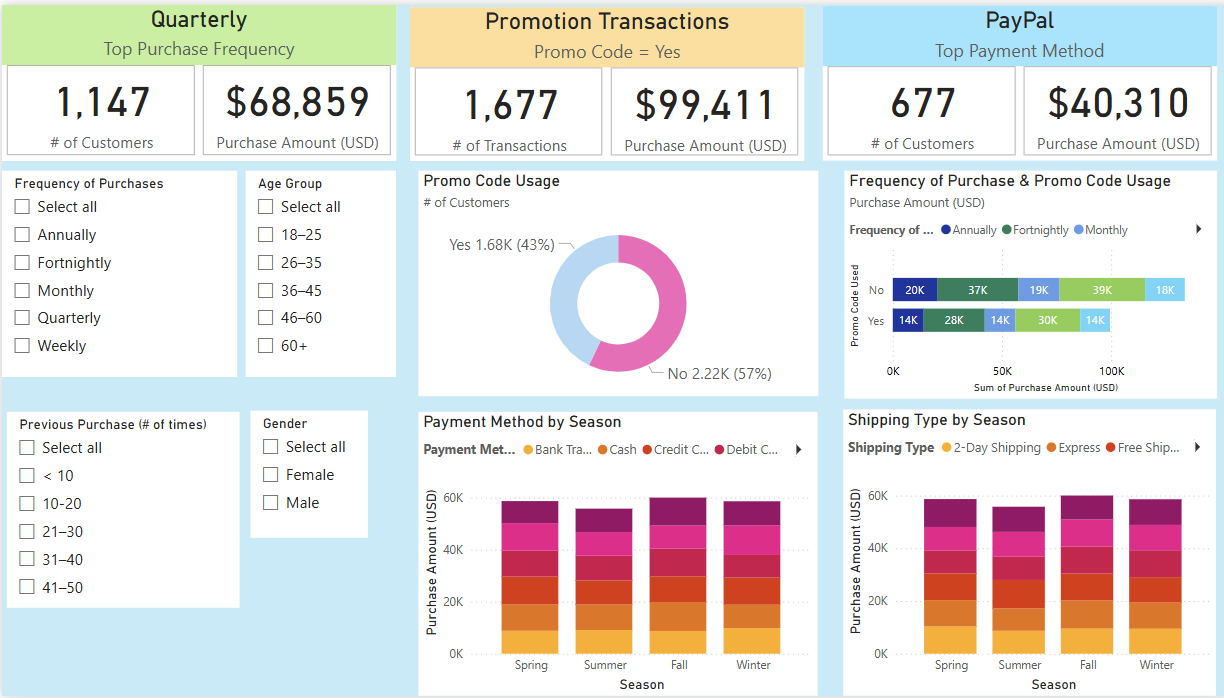

This screenshot's page, from the dashboard's own definition file:
{"tool":"powerbi","page":{"name":"Purch Behav","canvas":[1280,720],"ordinal":2},"visuals":[{"type":"cardVisual","fields":{"Data":["SalesData.TopPurchaseFrequencyCount","SalesData.TopPurchaseFrequencyAmount"]},"box":[0,0,410.4,162.4],"z":0},{"type":"donutChart","title":"Promo Code Usage","fields":{"Y":["CountNonNull(SalesData.Customer ID)"],"Category":["SalesData.Promo Code Used"]},"box":[433.8,172.5,416.2,235],"z":1000},{"type":"columnChart","title":"Shipping Type by Season","fields":{"Category":["SeasonLookup.Season"],"Series":["SalesData.Shipping Type"],"Y":["Sum(SalesData.Purchase Amount (USD))"]},"box":[876.2,421.2,388.7,298.7],"z":2000},{"type":"columnChart","title":"Payment Method by Season","fields":{"Series":["SalesData.Payment Method"],"Y":["Sum(SalesData.Purchase Amount (USD))"],"Category":["SeasonLookup.Season"]},"box":[433.8,423.4,415.6,296.1],"z":3000},{"type":"barChart","title":"Frequency of Purchase & Promo Code Usage","fields":{"Category":["SalesData.Promo Code Used"],"Series":["SalesData.Frequency of Purchases"],"Y":["Sum(SalesData.Purchase Amount (USD))"]},"box":[877.5,172.5,388.7,237.5],"z":4000},{"type":"slicer","fields":{"Values":["SalesData.Frequency of Purchases"]},"box":[0,172.5,245,215],"z":5000},{"type":"slicer","fields":{"Values":["SalesData.PrevPurchGroup"]},"box":[5.3,423.7,242.9,204.3],"z":6000},{"type":"slicer","fields":{"Values":["SalesData.AgeGroup"]},"box":[253.8,172.5,156.2,215],"z":7000},{"type":"slicer","fields":{"Values":["SalesData.Gender"]},"box":[258.6,423.1,122.1,132.5],"z":8000},{"type":"cardVisual","title":"Promotion Transactions","fields":{"Data":["SalesData.PromoCodeCount","SalesData.PromoPurchaseAmount"]},"box":[424.7,2.6,410.4,159.8],"z":9000},{"type":"cardVisual","fields":{"Data":["SalesData.TopPaymentMethodCount","SalesData.TopPaymentMethodAmount"]},"box":[854.6,1.3,410.4,161.1],"z":10000}]}

Visuals, with their boxes in screenshot pixels (x1, y1, x2, y2), scaled from the page's 1280x720 canvas onto the 1224x698 screenshot:
cardVisual - SalesData.TopPurchaseFrequencyCount x SalesData.TopPurchaseFrequencyAmount: [x1=0, y1=0, x2=392, y2=157]
"Promo Code Usage" donutChart: [x1=415, y1=167, x2=813, y2=395]
"Shipping Type by Season" columnChart: [x1=838, y1=408, x2=1210, y2=697]
"Payment Method by Season" columnChart: [x1=415, y1=410, x2=812, y2=697]
"Frequency of Purchase & Promo Code Usage" barChart: [x1=839, y1=167, x2=1211, y2=397]
slicer - SalesData.Frequency of Purchases: [x1=0, y1=167, x2=234, y2=376]
slicer - SalesData.PrevPurchGroup: [x1=5, y1=411, x2=237, y2=609]
slicer - SalesData.AgeGroup: [x1=243, y1=167, x2=392, y2=376]
slicer - SalesData.Gender: [x1=247, y1=410, x2=364, y2=539]
"Promotion Transactions" cardVisual: [x1=406, y1=3, x2=799, y2=157]
cardVisual - SalesData.TopPaymentMethodCount x SalesData.TopPaymentMethodAmount: [x1=817, y1=1, x2=1210, y2=157]
